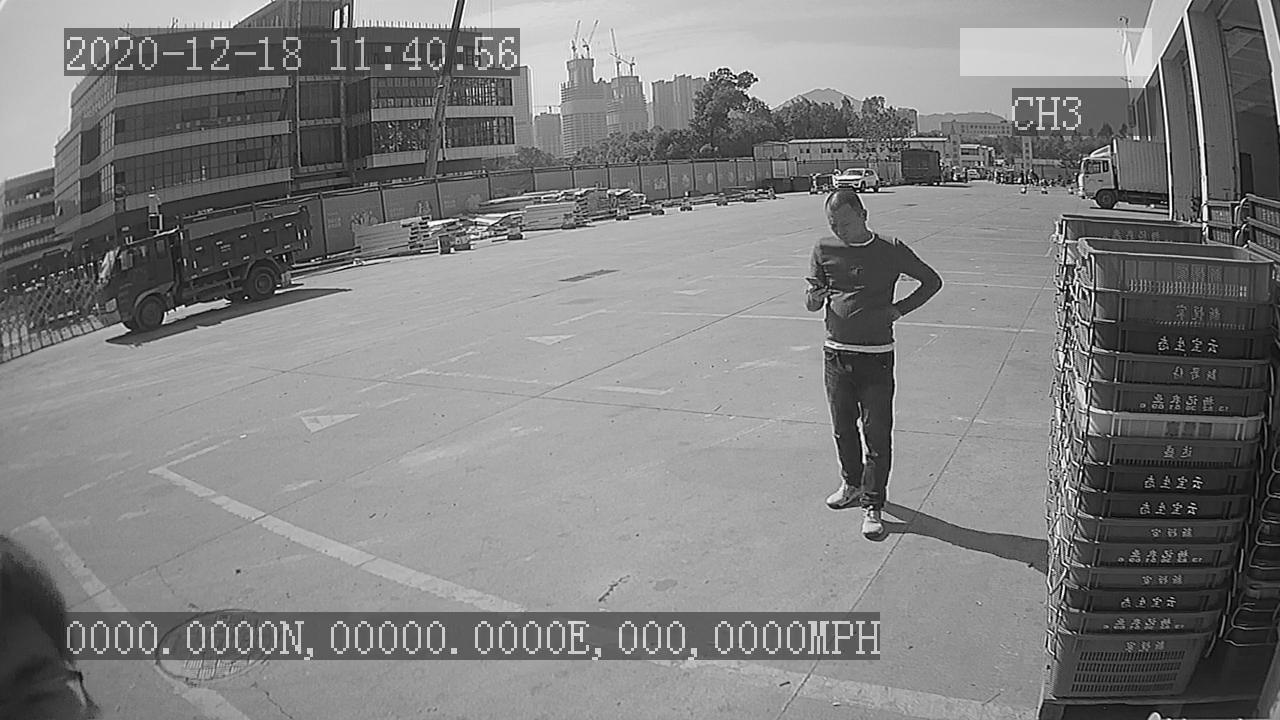person: (806, 192, 941, 542)
